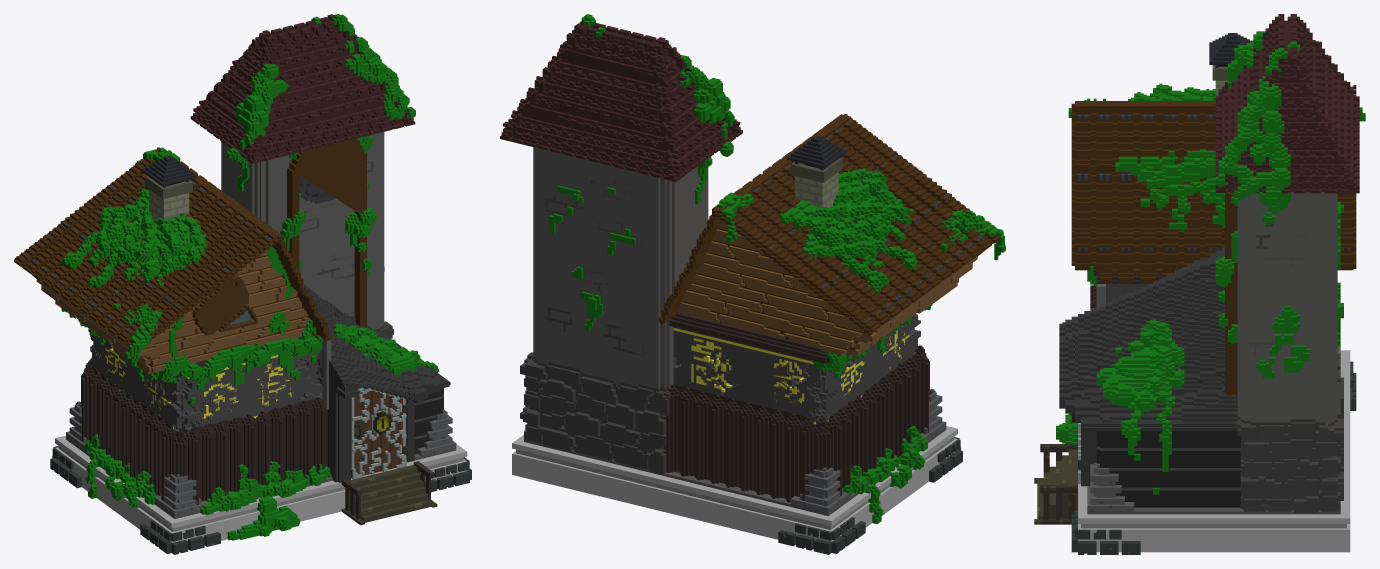
Rendered from Home.fbx.
3 renders of one model, left to right at view 1: azimuth 30°, elevation 25°; view 2: azimuth 150°, elevation 25°; view 3: azimuth 270°, elevation 25°, orthographic. The views are drawn at different scales.
Visible parts, largest first — view 1: Home; view 2: Home; view 3: Home.
Boxes of the visible parts, bbox=[...] form: Home: bbox=[14, 14, 471, 554]; Home: bbox=[500, 14, 1005, 554]; Home: bbox=[1034, 14, 1365, 554].
Bounding box in the file's own units: 6040 × 4240 × 6760.
